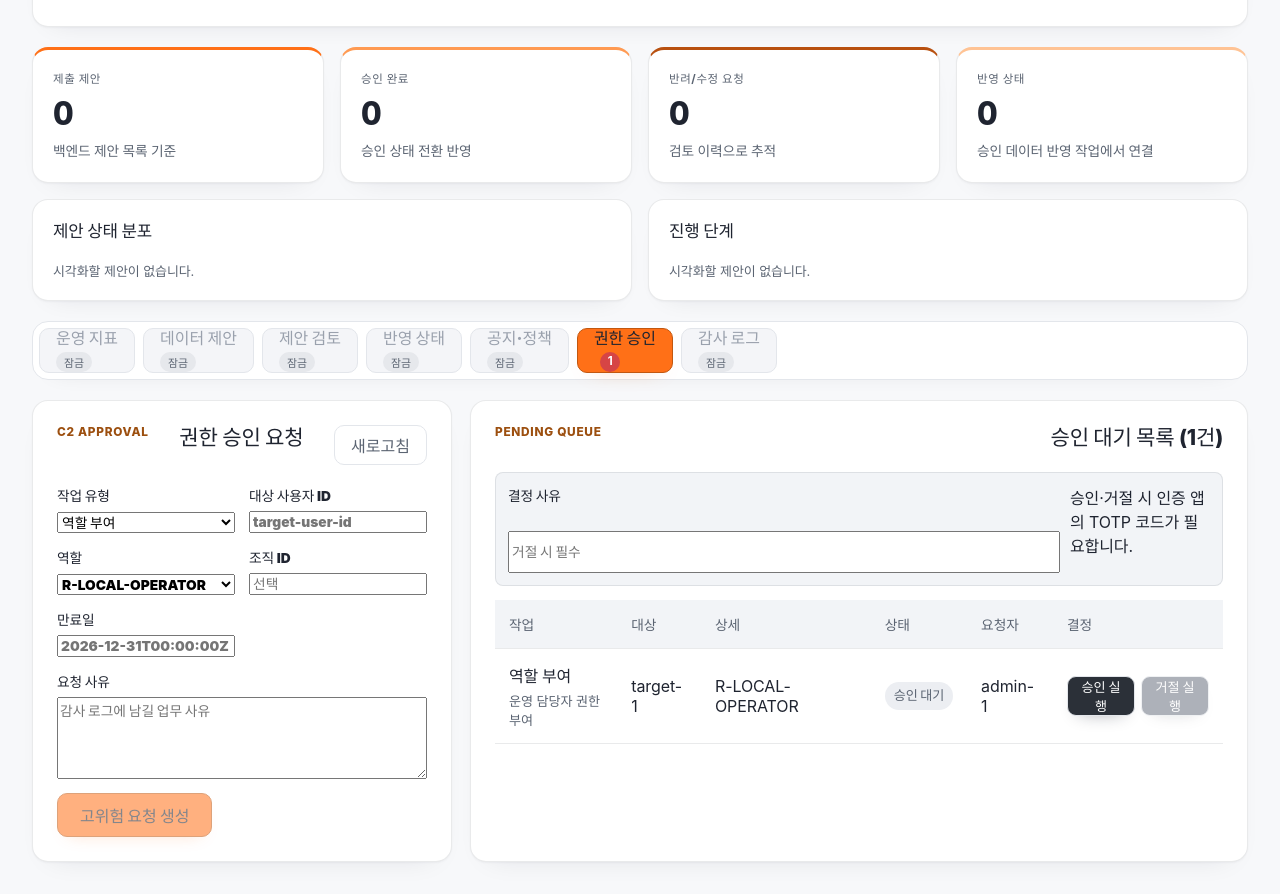
Test case: high-risk decision flows (super admin) › does not treat an MFA status lookup failure as an unenrolled credential
The width and height of the screenshot is (1280, 894).
(page scrolled)
Check: the heading "권한 승인 요청" is shown, box [179,425,303,452]
Click the button "승인 실행" at (1101, 696), box [1067,676,1135,716]
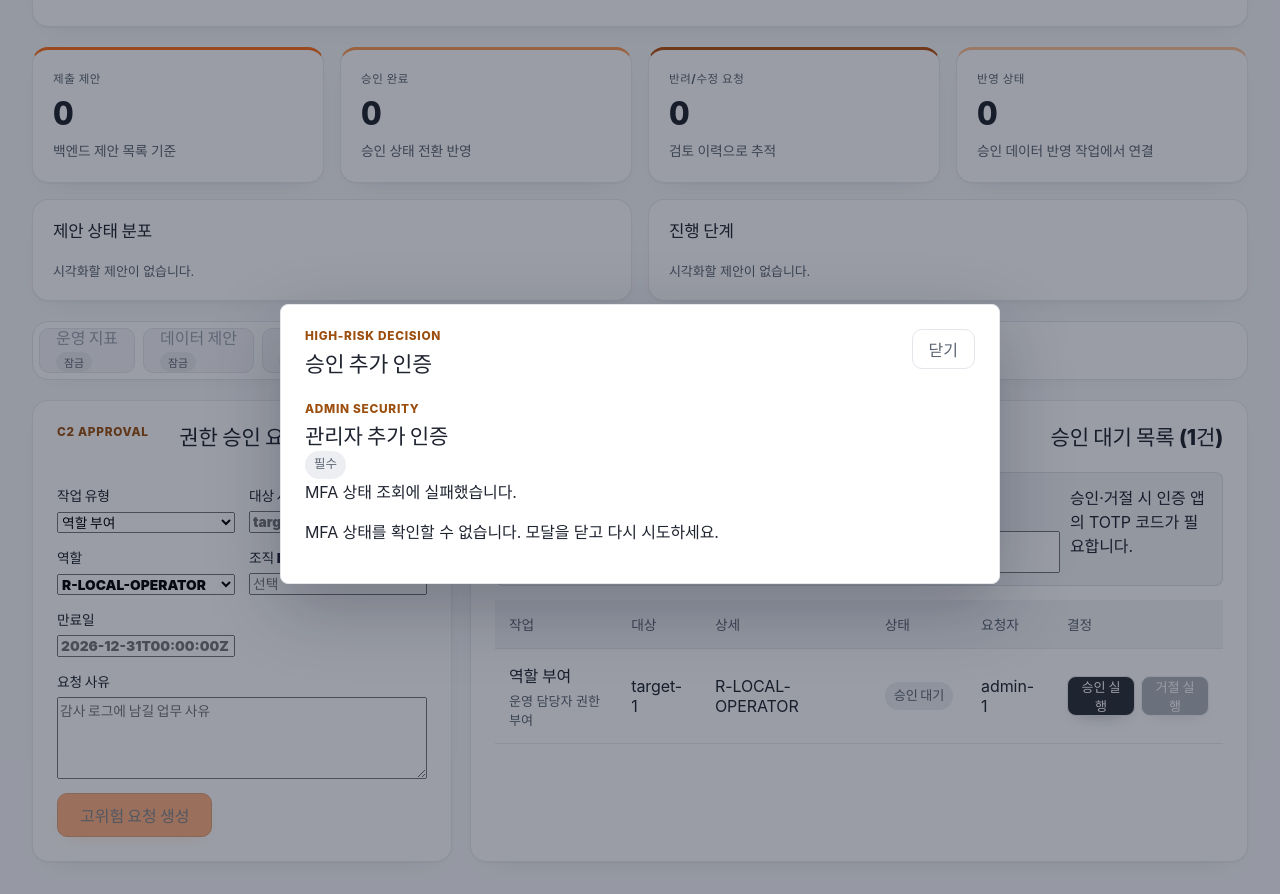
Check: the text "MFA 상태 조회에 실패했습니다." is shown, box [305,482,517,502]
Check: the text "MFA 상태를 확인할 수 없습니다. 모달을 닫고 다시 시도하세요." is shown, box [305,522,719,542]
